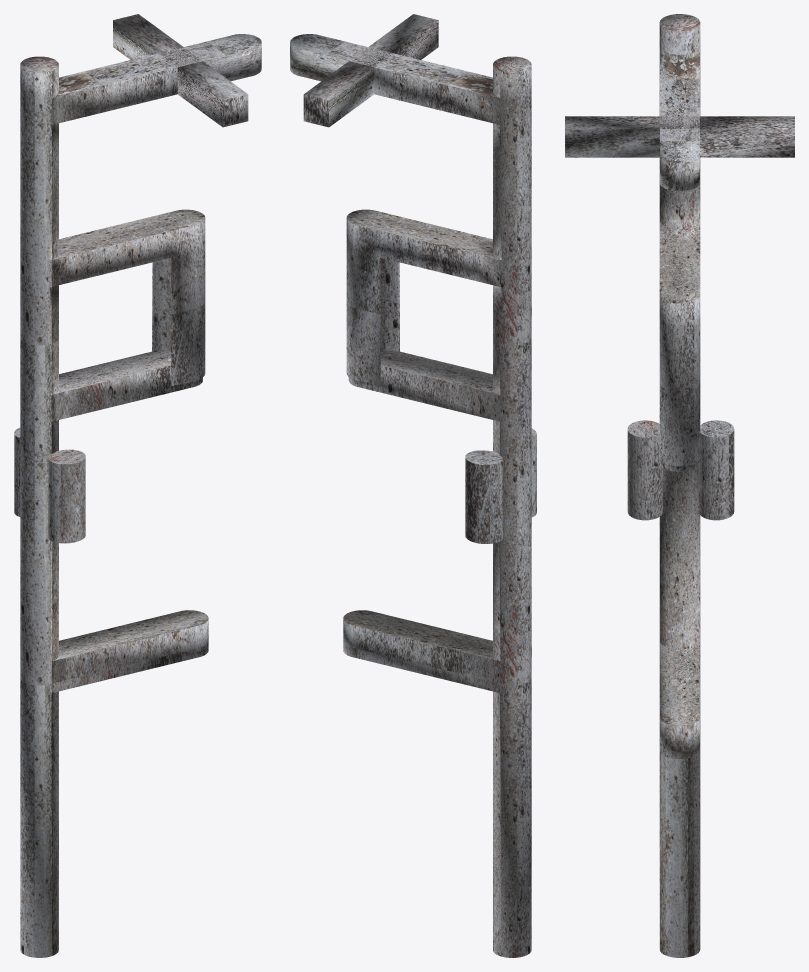
File: denntyuu.fbx
3 renders of one model, left to right at view 1: azimuth 30°, elevation 25°; view 2: azimuth 150°, elevation 25°; view 3: azimuth 270°, elevation 25°, orthographic. The views are drawn at different scales.
Parts seen in each view (by area): view 1: denntuu; view 2: denntuu; view 3: denntuu.
Boxes of the visible parts, left/top/right/bottom form: denntuu: left=14, top=14, right=261, bottom=957; denntuu: left=290, top=14, right=536, bottom=957; denntuu: left=565, top=14, right=794, bottom=957.
Bounding box in the file's own units: 1406 × 5029 × 1130.
